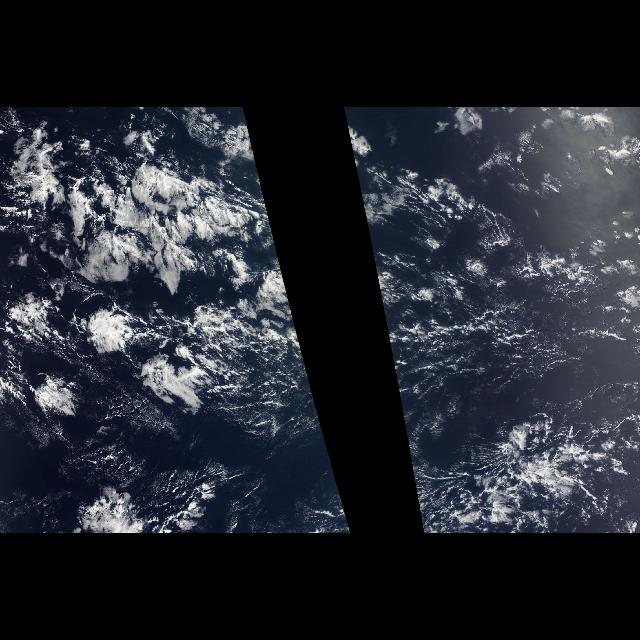Flower: (26, 299, 268, 533)
